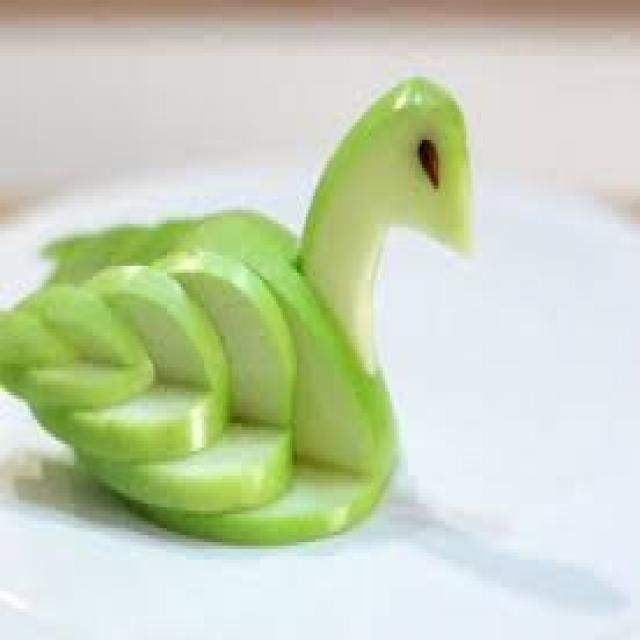Apple: (307, 68, 481, 355), (86, 271, 230, 458), (255, 262, 385, 461), (153, 254, 304, 416), (29, 286, 155, 418), (78, 437, 301, 511), (177, 470, 376, 545), (39, 397, 229, 464), (132, 215, 300, 263), (0, 300, 70, 378)
